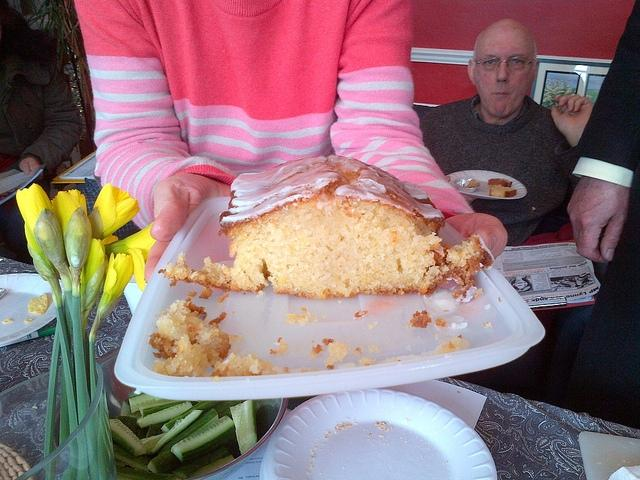cucumber: (172, 415, 236, 464), (158, 409, 218, 455), (150, 410, 203, 453), (172, 445, 230, 480), (160, 401, 222, 432), (230, 400, 258, 454), (136, 402, 193, 428), (110, 419, 147, 457), (113, 441, 151, 472), (187, 454, 234, 479), (112, 415, 151, 441), (128, 392, 174, 412), (116, 465, 176, 480), (148, 452, 182, 472), (140, 432, 168, 454), (214, 401, 242, 421), (120, 400, 141, 419), (146, 424, 163, 438)
